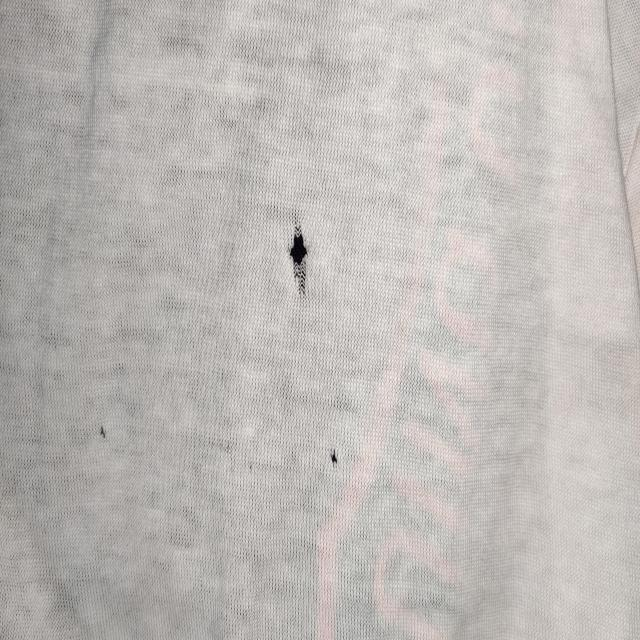Hole: (289, 223, 307, 300), (98, 418, 109, 443), (330, 448, 338, 470)
